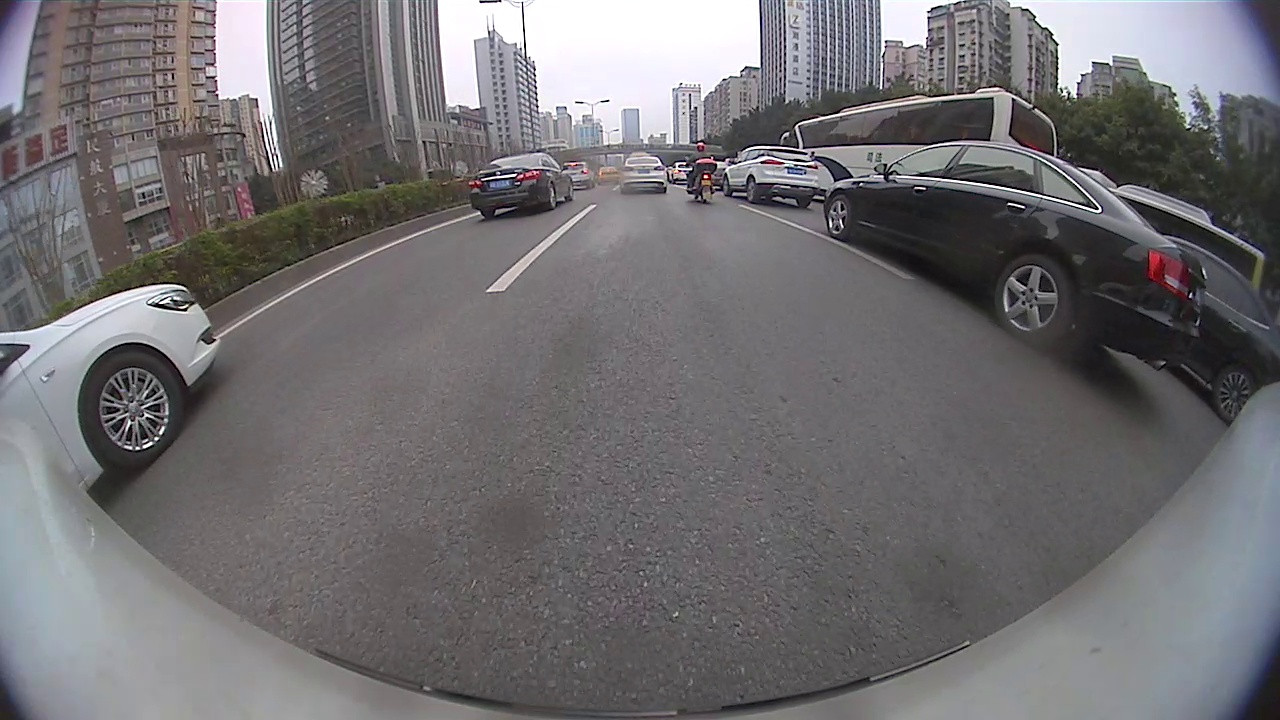bus: (778, 87, 1060, 195)
car: (823, 139, 1205, 374), (2, 279, 221, 498), (1163, 234, 1277, 420), (474, 151, 575, 217), (725, 150, 815, 206), (619, 155, 668, 193)
front: (79, 351, 183, 468), (825, 196, 851, 240)
rear: (995, 253, 1071, 349), (1213, 364, 1257, 420), (745, 176, 760, 201), (545, 184, 557, 208)
rider: (689, 142, 720, 205)
